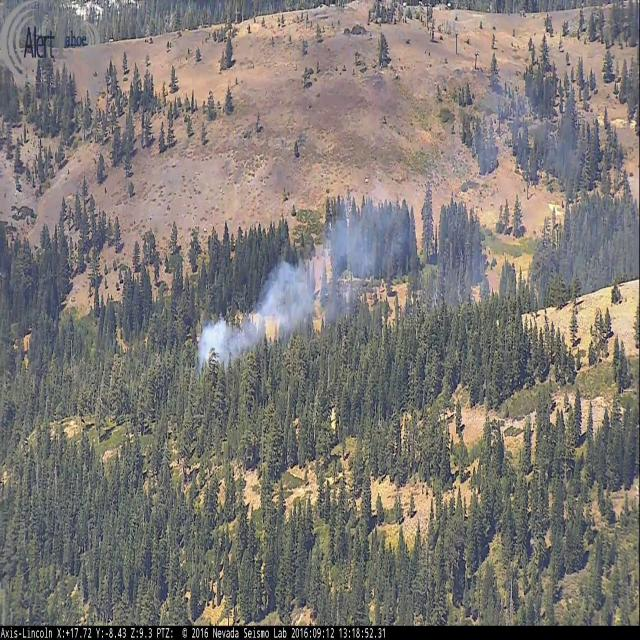smoke: (195, 82, 640, 370)
